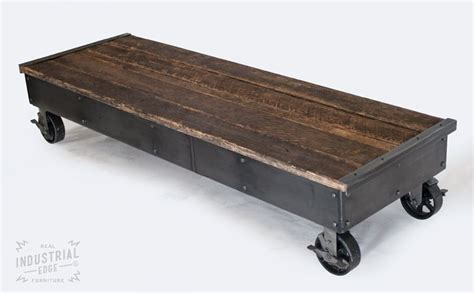Carts: (16, 31, 458, 278)
